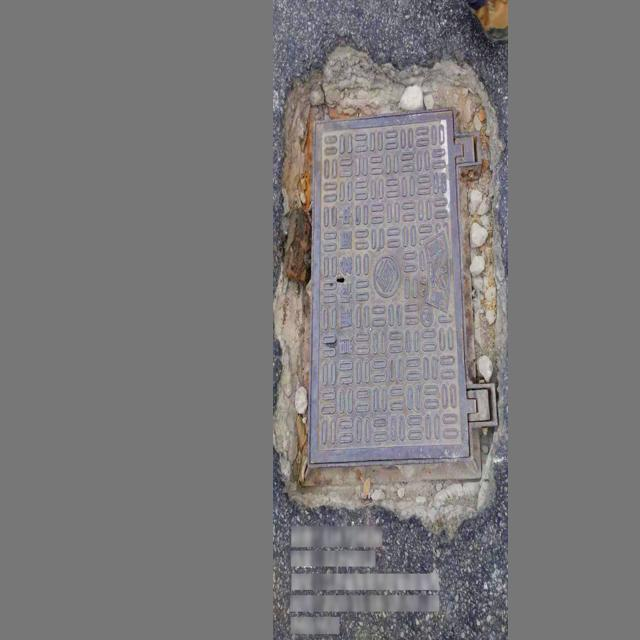circle: (285, 78, 500, 509)
